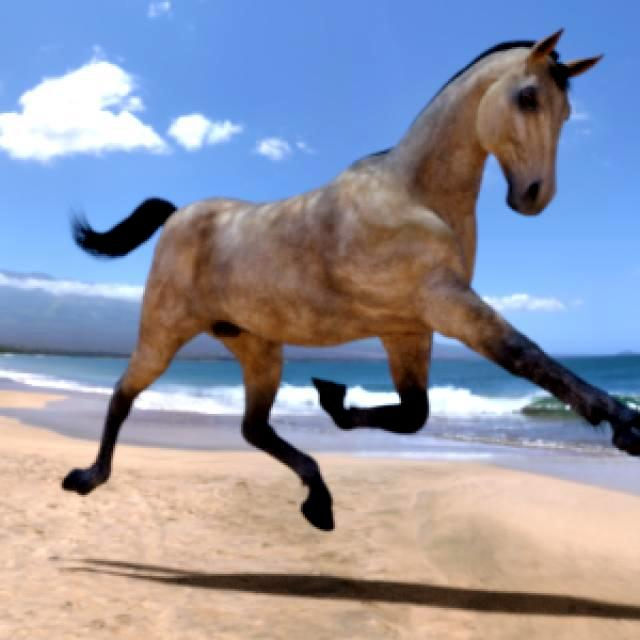horse: (62, 31, 640, 529)
